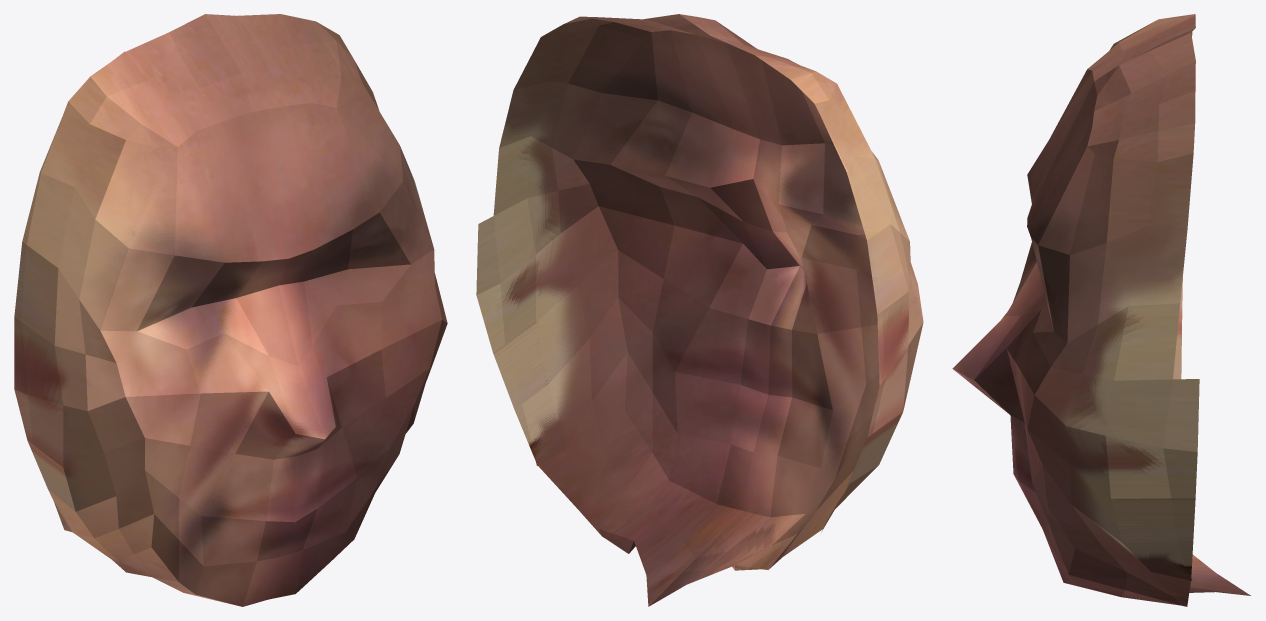
File: brett 3d model.glb
3 views of the same model, side by side, from view 1: azimuth 30°, elevation 25°; view 2: azimuth 150°, elevation 25°; view 3: azimuth 270°, elevation 25° (orthographic).
Parts seen in each view (by area): view 1: Roundcube; view 2: Roundcube; view 3: Roundcube.
Part boxes in pixels (x1,y1,x2,y2): Roundcube: [14, 14, 447, 606]; Roundcube: [476, 14, 923, 606]; Roundcube: [952, 14, 1250, 606].
Size of the model in its own units: 0.9829 by 1.35 by 0.6516.
Materials: 1 (1 with a texture image).
